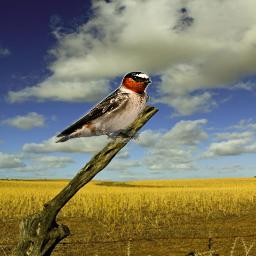Swallow: (54, 70, 152, 143)
